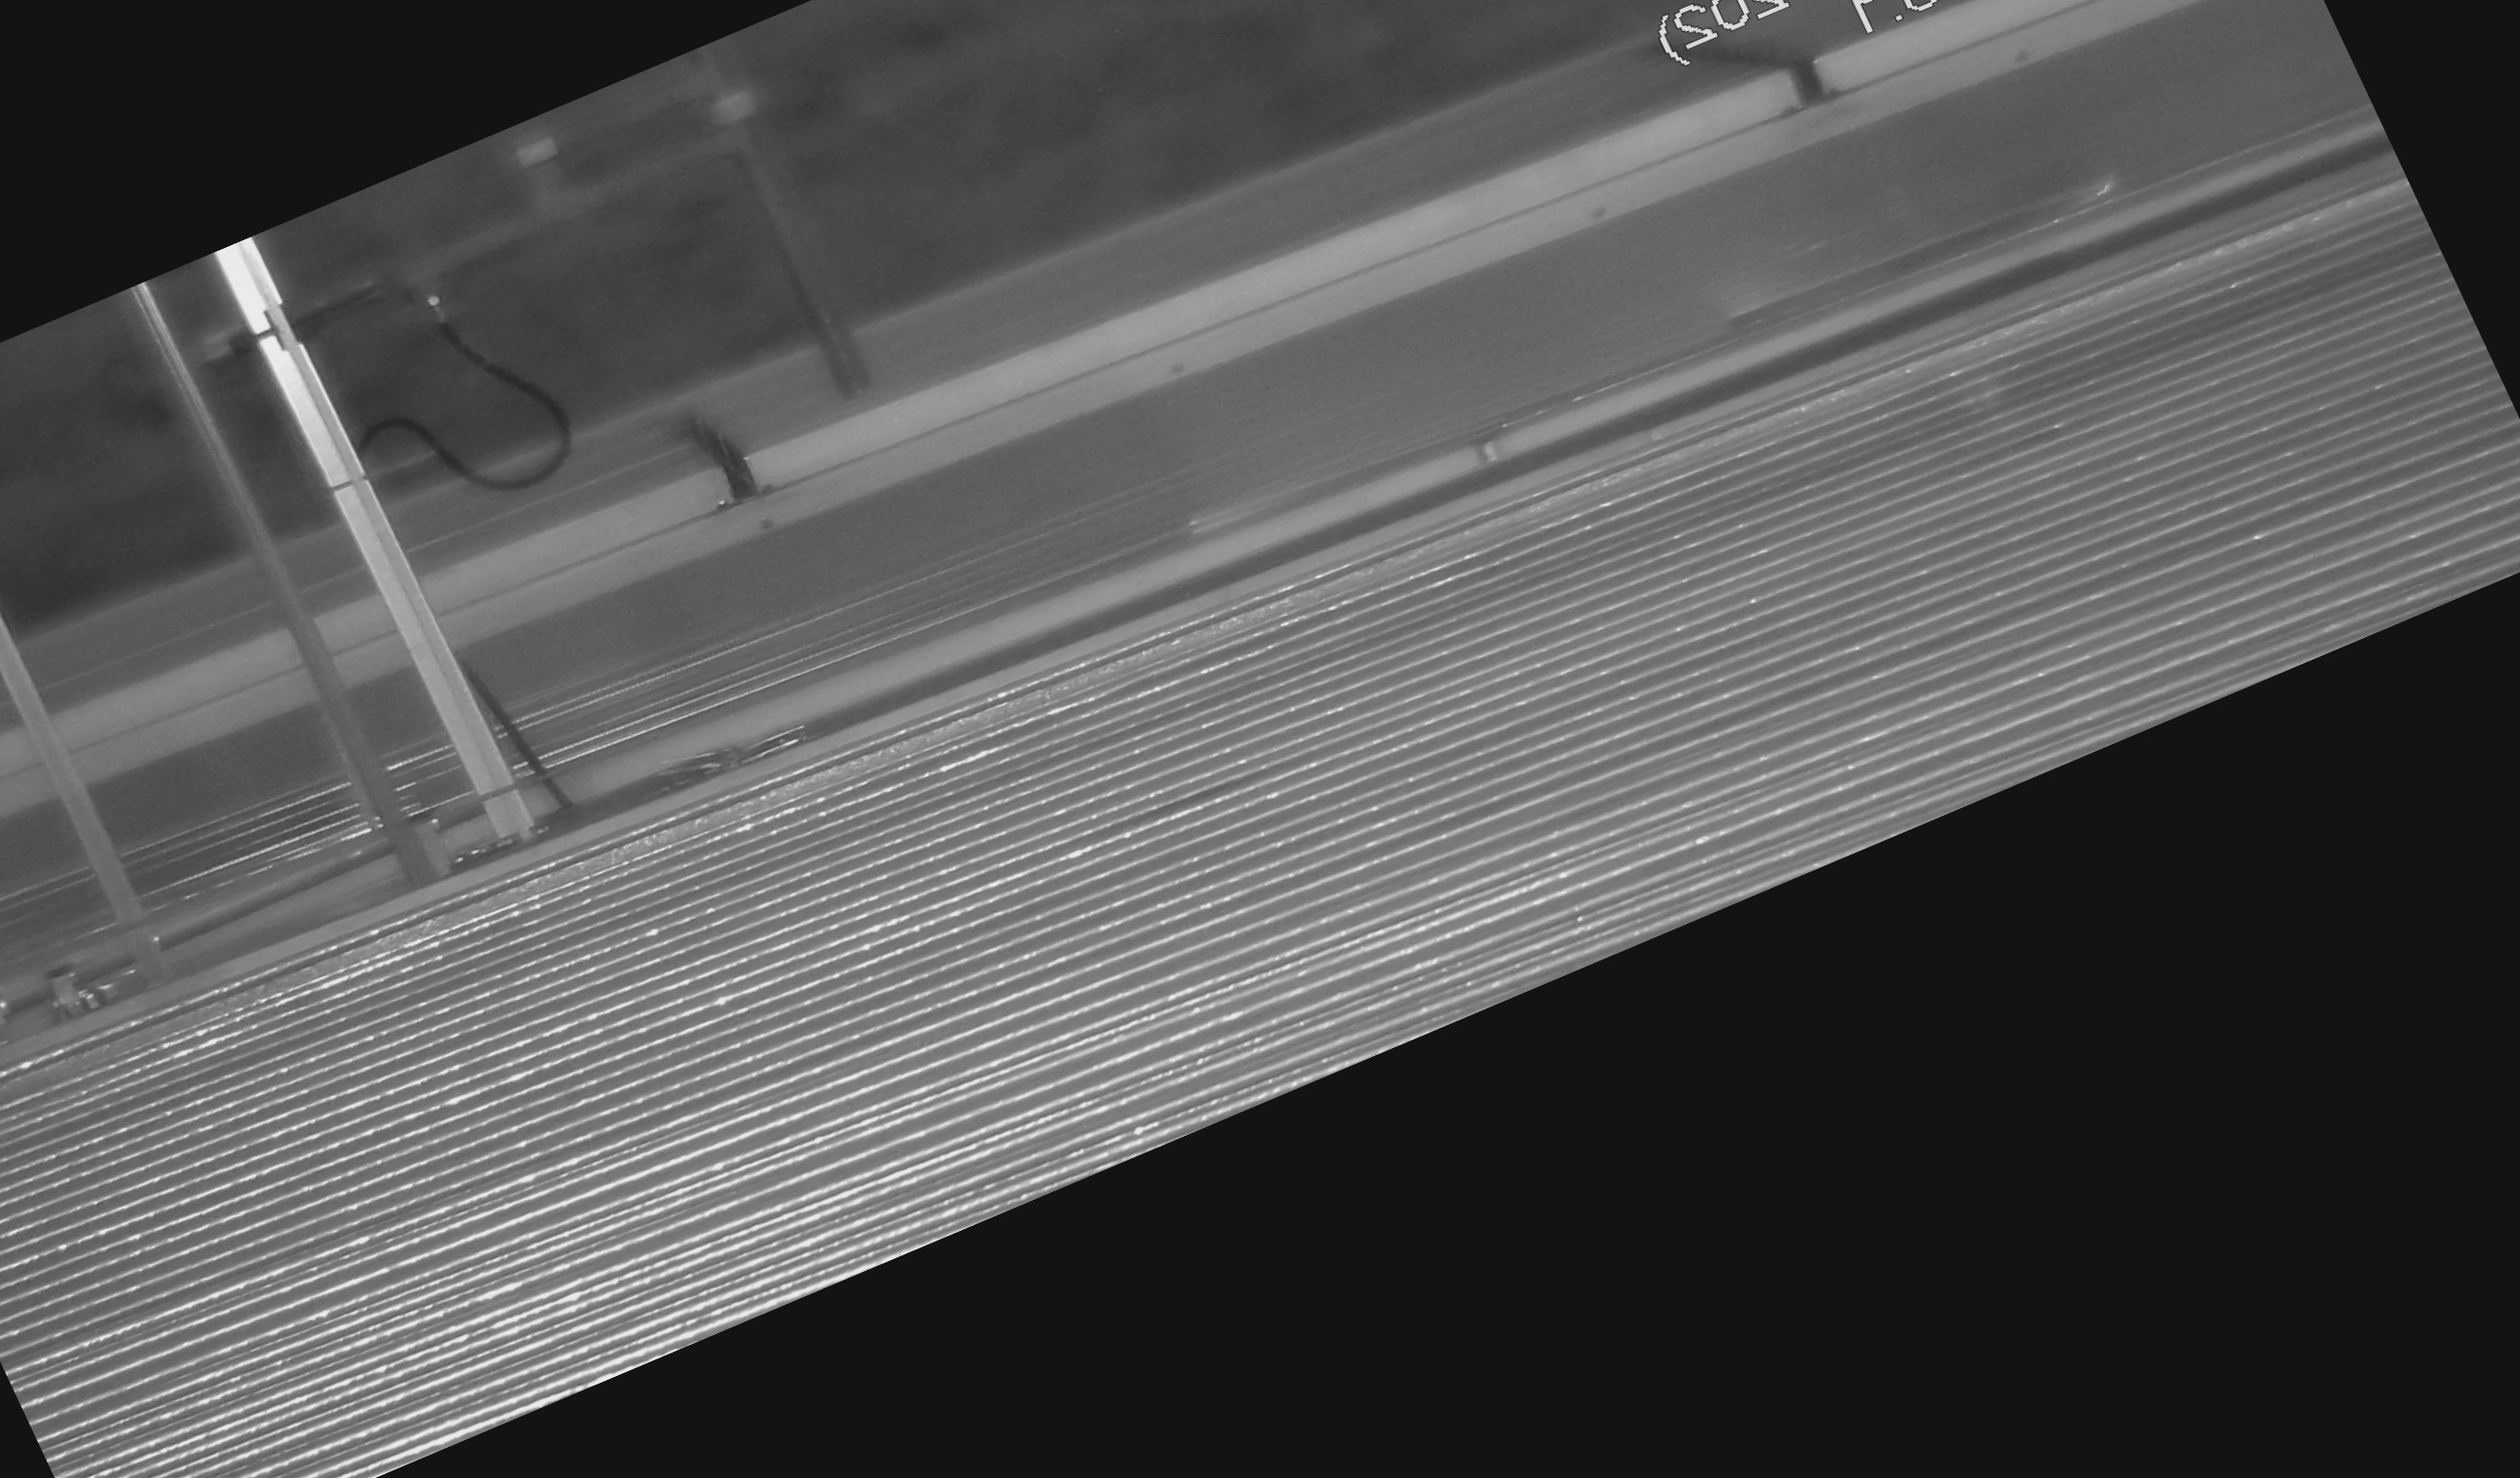Other: (644, 378, 783, 524)
